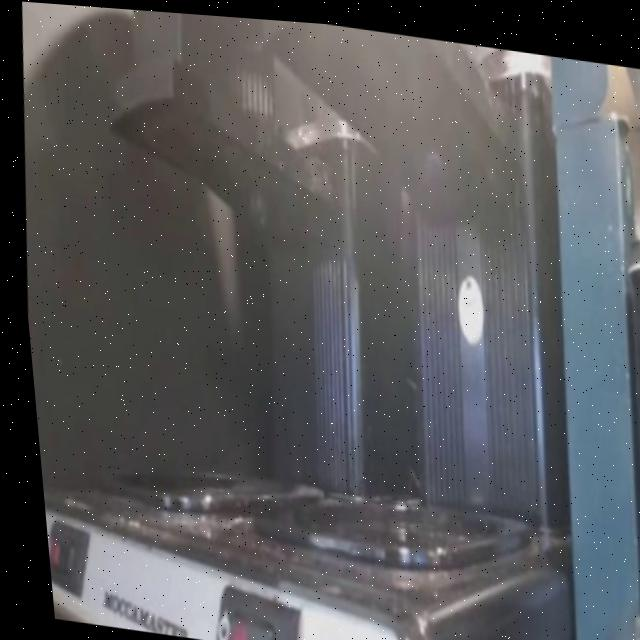empty: (187, 24, 577, 617), (49, 33, 328, 559)
